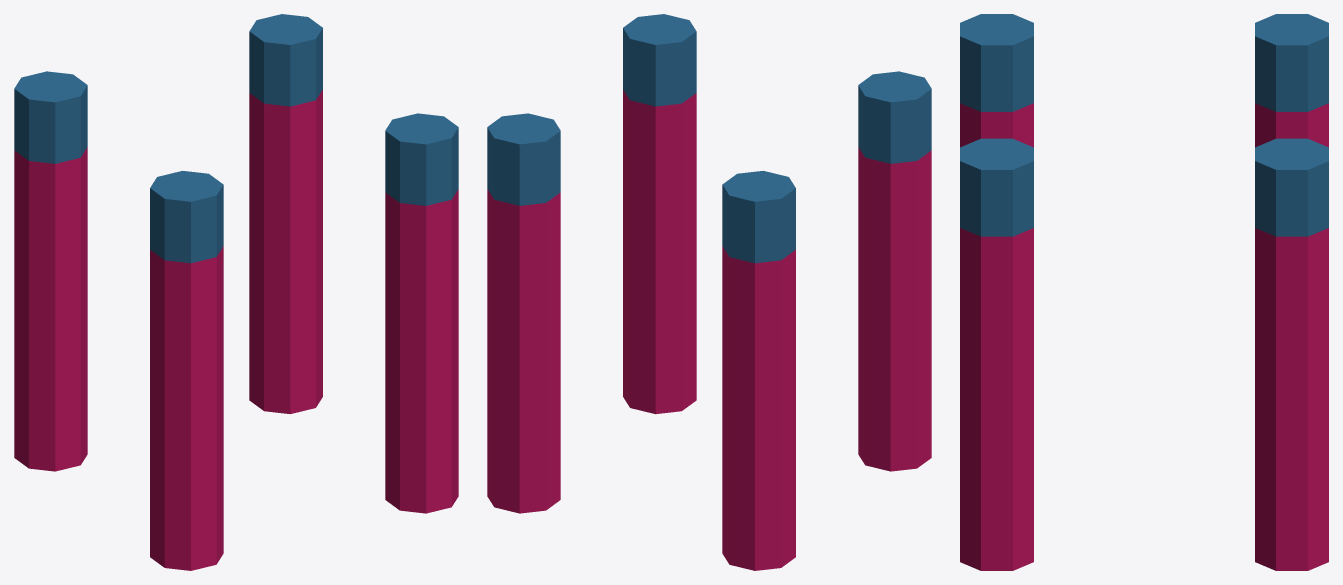
File: ph-support.glb
The picture shows the model from 3 angles, left to right: view 1: azimuth 30°, elevation 25°; view 2: azimuth 150°, elevation 25°; view 3: azimuth 270°, elevation 25°; orthographic projection. The views are drawn at different scales.
Size of the model in its own units: 5 by 6 by 5.
